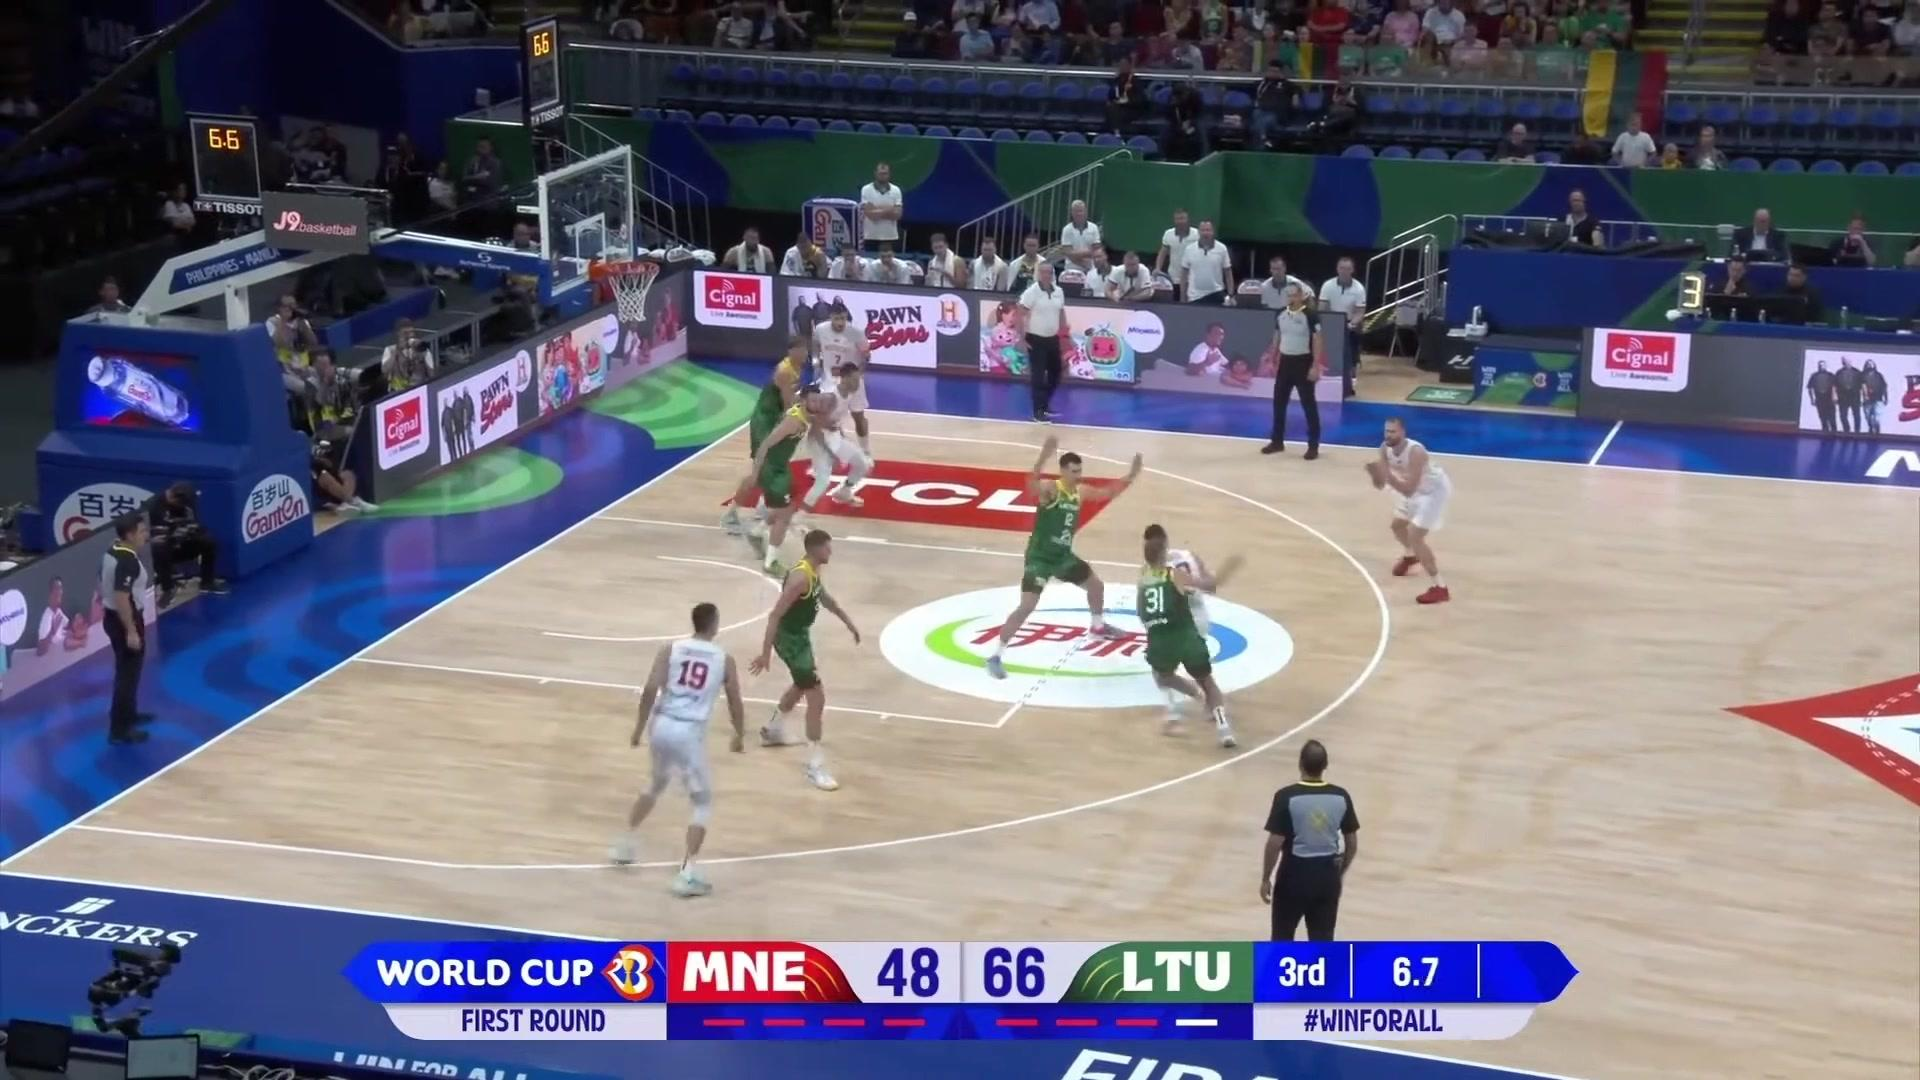foul: (1087, 502, 1257, 737)
